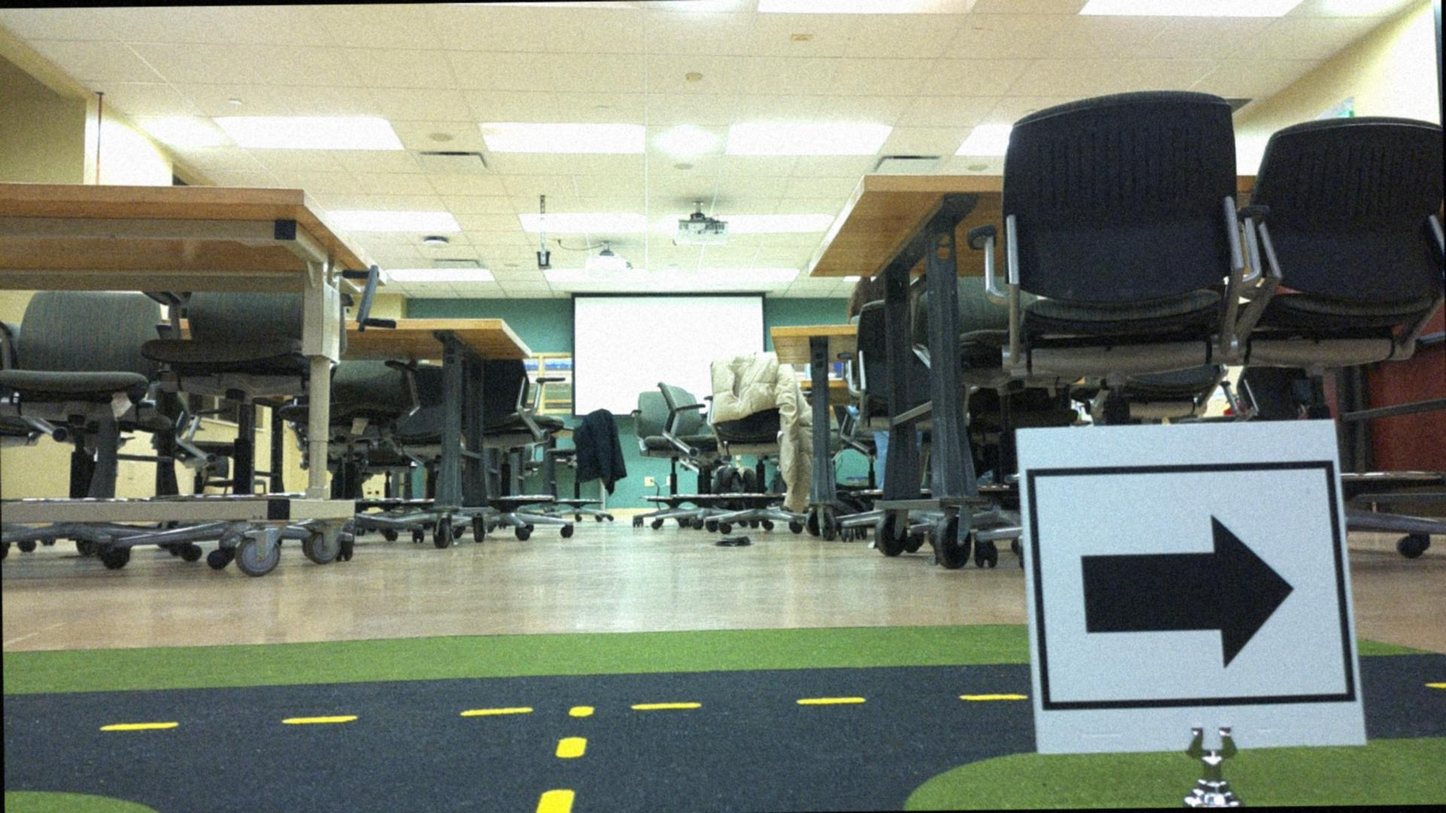turnleft: (1022, 425, 1344, 748)
yellowline: (99, 690, 1014, 729), (531, 735, 590, 812)
